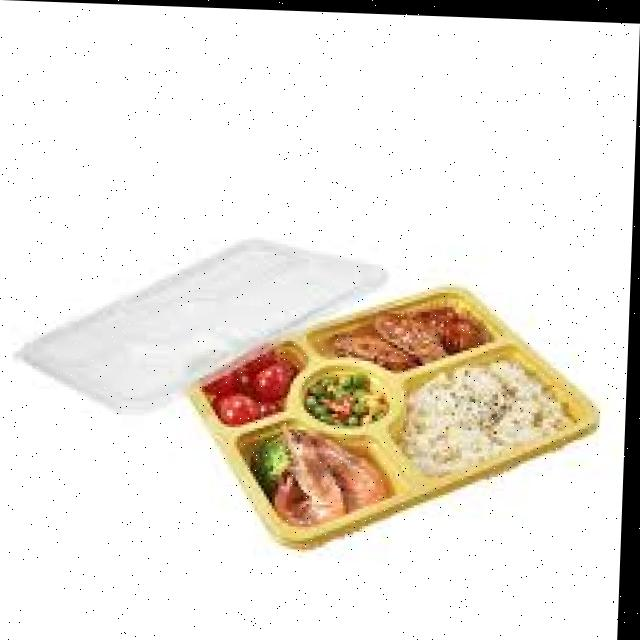disposable: (183, 262, 616, 568)
